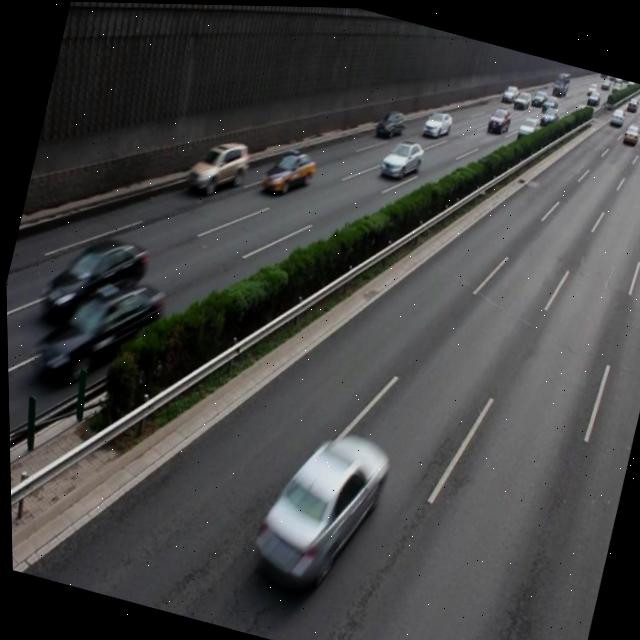car: (243, 411, 393, 600), (30, 257, 169, 399), (35, 219, 151, 339), (183, 129, 252, 200), (258, 140, 318, 200), (377, 132, 425, 181)
